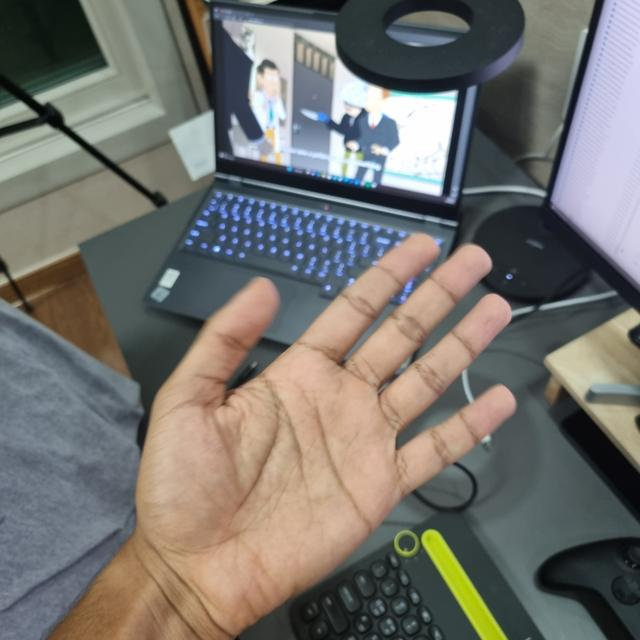Paper: (134, 243, 515, 625)
